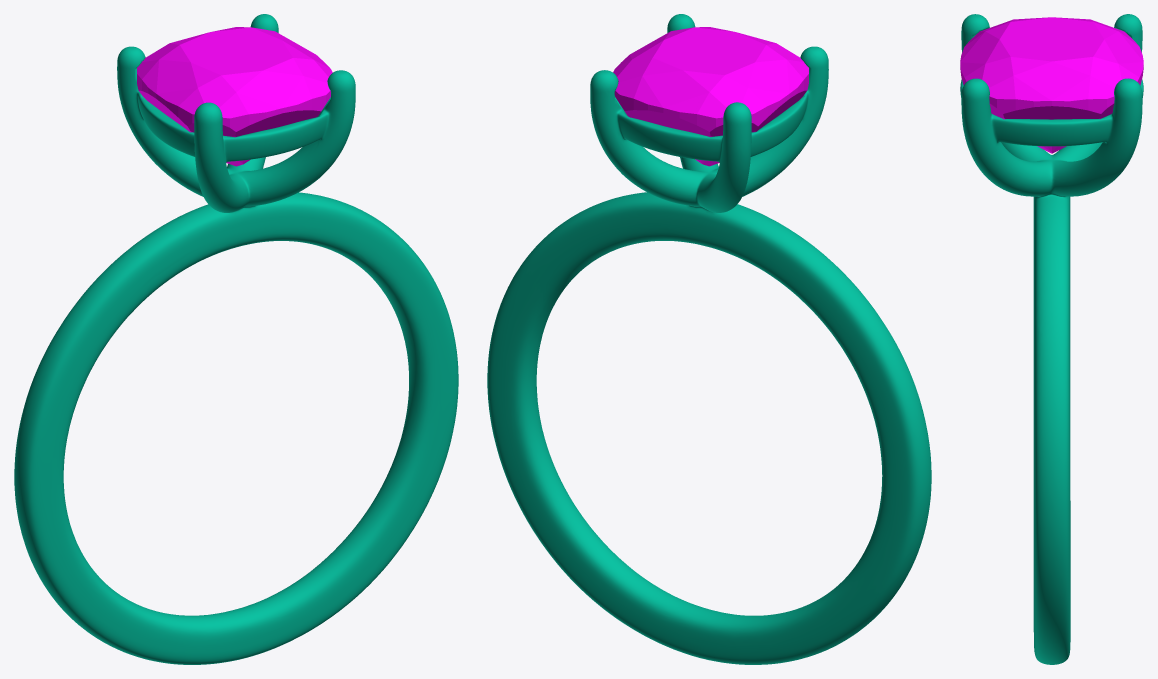
File: BE17651_CU_200ct_RENDER.glb
3 views of the same model, side by side, from view 1: azimuth 30°, elevation 25°; view 2: azimuth 150°, elevation 25°; view 3: azimuth 270°, elevation 25° (orthographic).
Visible parts, largest first — view 1: Metal 01, CS_Diamond_Cushion; view 2: Metal 01, CS_Diamond_Cushion; view 3: Metal 01, CS_Diamond_Cushion.
Boxes of the visible parts, x1,y1,x2,y2 form: Metal 01: (14,14,458,664); CS_Diamond_Cushion: (137,27,332,166); Metal 01: (487,14,931,664); CS_Diamond_Cushion: (613,27,808,166); Metal 01: (960,14,1143,664); CS_Diamond_Cushion: (960,17,1143,153).
Bounding box in the file's own units: 20.49 × 27.14 × 7.5.
